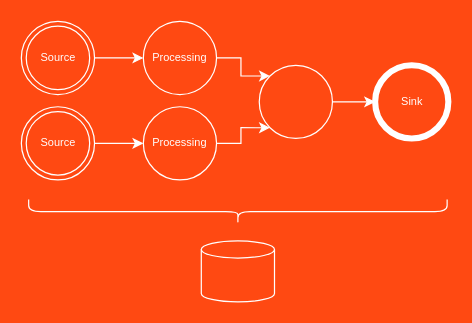
This 472x323 diagram has some shape labels left out. The shapes that lost their labels are listed below. From the top down, each one's centre as x and y in pixels, then its label:
(295,101): Fusion
(237,271): Services
